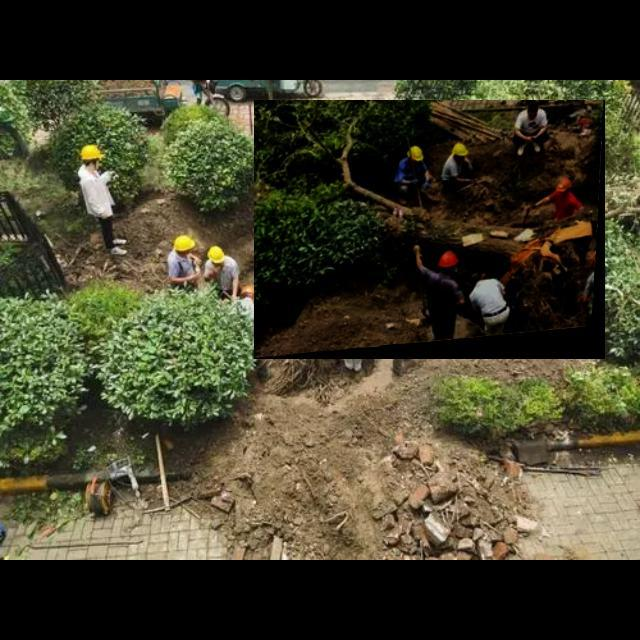fallen_tree: (254, 100, 606, 360)
